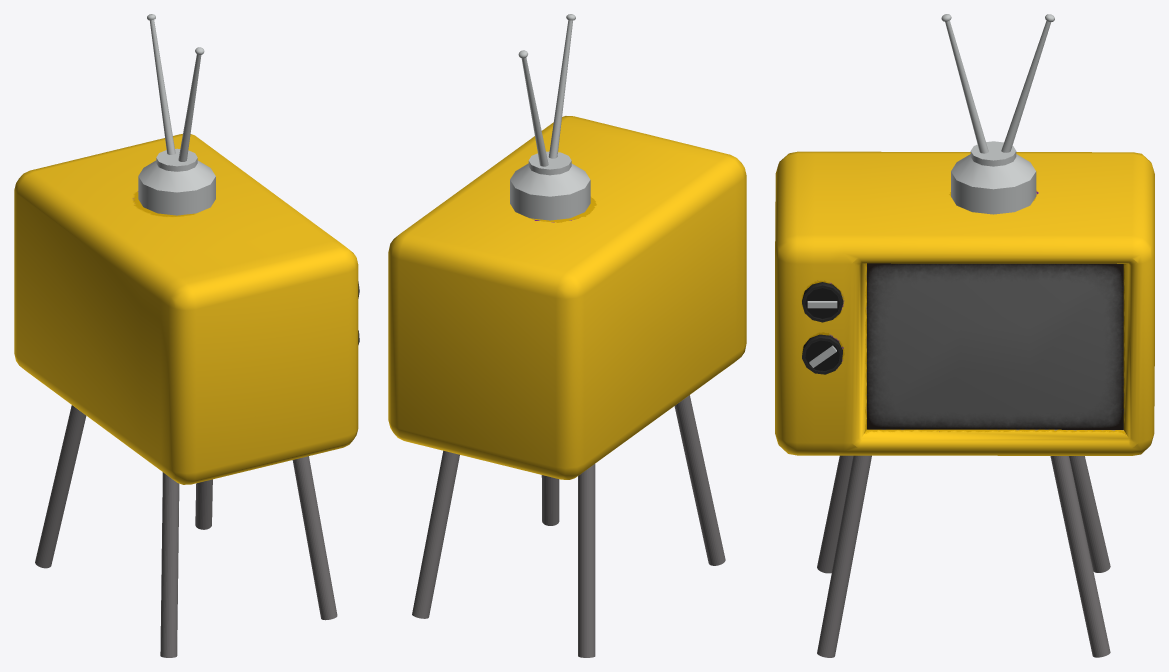
The picture shows the model from 3 angles, left to right: view 1: azimuth 30°, elevation 25°; view 2: azimuth 150°, elevation 25°; view 3: azimuth 270°, elevation 25°; orthographic projection. The views are drawn at different scales.
Parts seen in each view (by area): view 1: television, 실린더.003, 실린더, 실린더.002, 실린더.001; view 2: television, 실린더.002, 실린더.003, 실린더.001, 실린더; view 3: television, 실린더, 실린더.001, 실린더.002, 실린더.003.
Part boxes in pixels (bbox=[...]): television: bbox=[14, 14, 359, 484]; 실린더.003: bbox=[160, 472, 179, 657]; 실린더: bbox=[292, 456, 337, 620]; 실린더.002: bbox=[35, 405, 86, 568]; 실린더.001: bbox=[195, 479, 212, 529]; television: bbox=[388, 14, 746, 479]; 실린더.002: bbox=[578, 464, 595, 657]; 실린더.003: bbox=[674, 395, 725, 565]; 실린더.001: bbox=[412, 450, 459, 618]; 실린더: bbox=[541, 475, 559, 525]; television: bbox=[775, 14, 1154, 455]; 실린더: bbox=[817, 455, 871, 657]; 실린더.001: bbox=[1050, 456, 1110, 657]; 실린더.002: bbox=[1069, 456, 1110, 572]; 실린더.003: bbox=[817, 455, 853, 573].
Bounding box in the file's own units: 0.5368 × 1.45 × 0.8279.
Materials: 2 (1 with a texture image).
